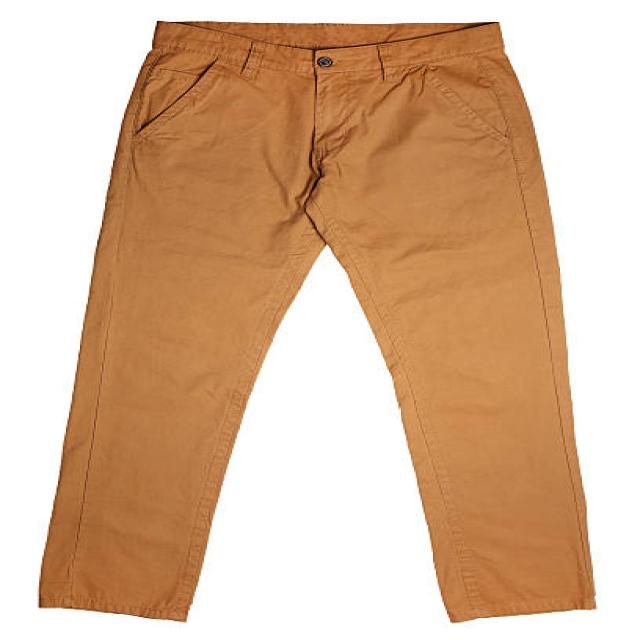pants: (35, 16, 603, 626)
